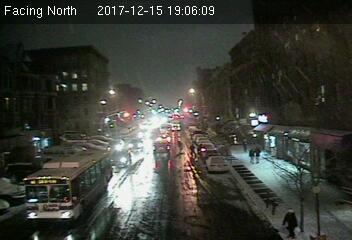bus: (22, 149, 112, 228)
car: (205, 155, 230, 172), (110, 149, 132, 168), (152, 140, 171, 153), (128, 138, 143, 150)
pedestrian: (281, 203, 300, 240), (254, 147, 261, 167), (248, 147, 255, 165)
